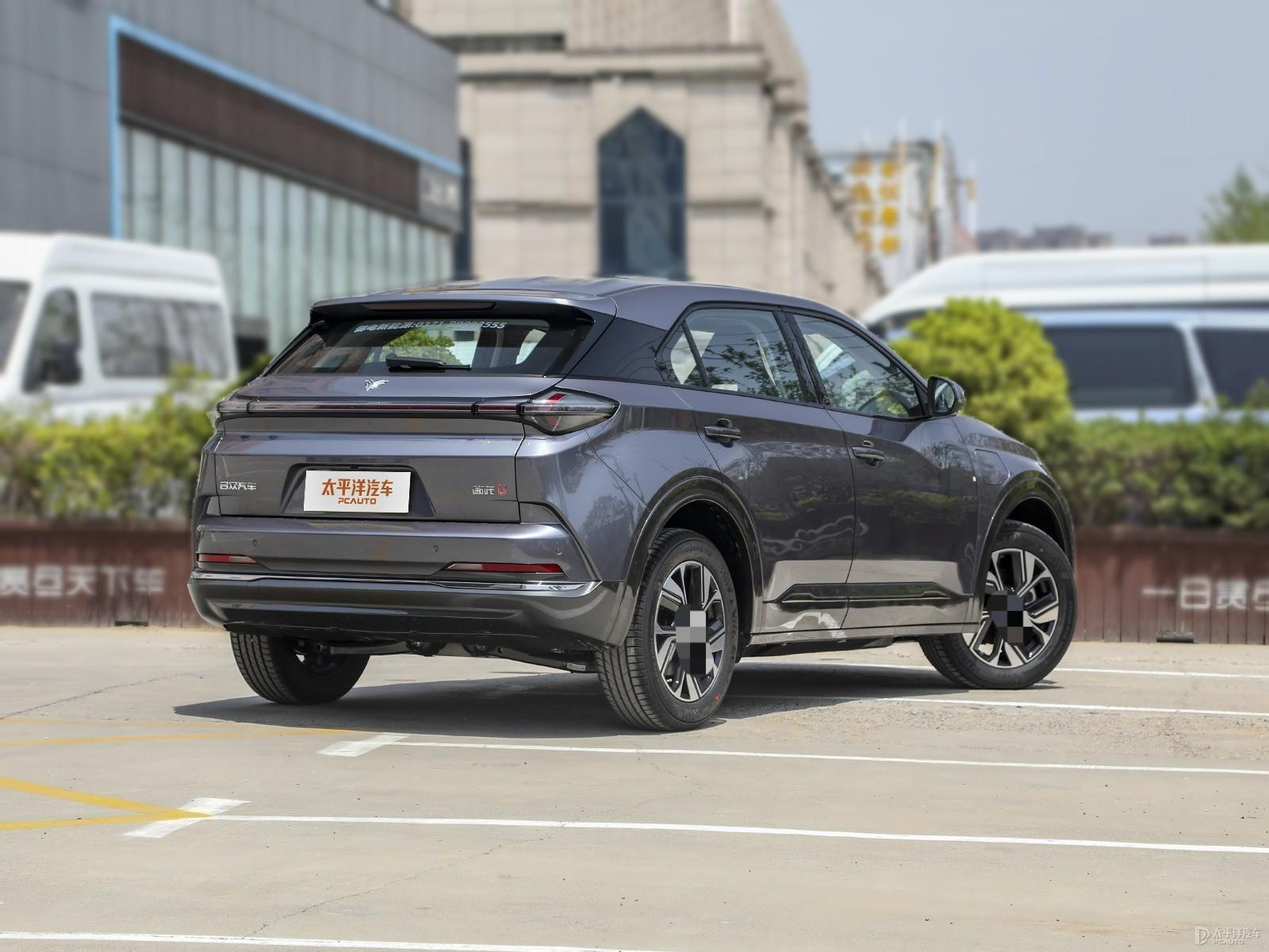NETA: (365, 378, 389, 392)
